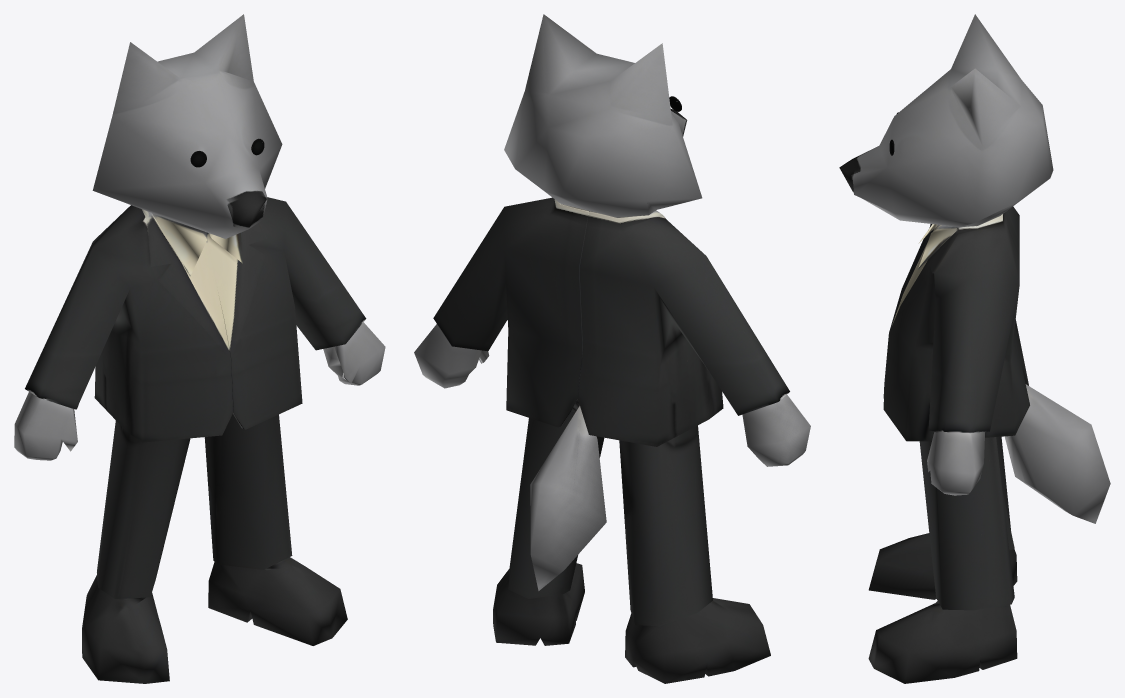
File: wolf 3d model.glb
3 renders of one model, left to right at view 1: azimuth 30°, elevation 25°; view 2: azimuth 150°, elevation 25°; view 3: azimuth 270°, elevation 25°, orthographic. The views are drawn at different scales.
Parts seen in each view (by area): view 1: tripo_169bdd83_6768_41ce_a764_c4cf870dbbef; view 2: tripo_169bdd83_6768_41ce_a764_c4cf870dbbef; view 3: tripo_169bdd83_6768_41ce_a764_c4cf870dbbef.
Boxes of the visible parts, x1,y1,x2,y2 form: tripo_169bdd83_6768_41ce_a764_c4cf870dbbef: (14,14,385,683); tripo_169bdd83_6768_41ce_a764_c4cf870dbbef: (414,14,810,683); tripo_169bdd83_6768_41ce_a764_c4cf870dbbef: (839,14,1110,683).
Bounding box in the file's own units: 0.6353 × 0.9995 × 0.4214.
Materials: 1 (1 with a texture image).
